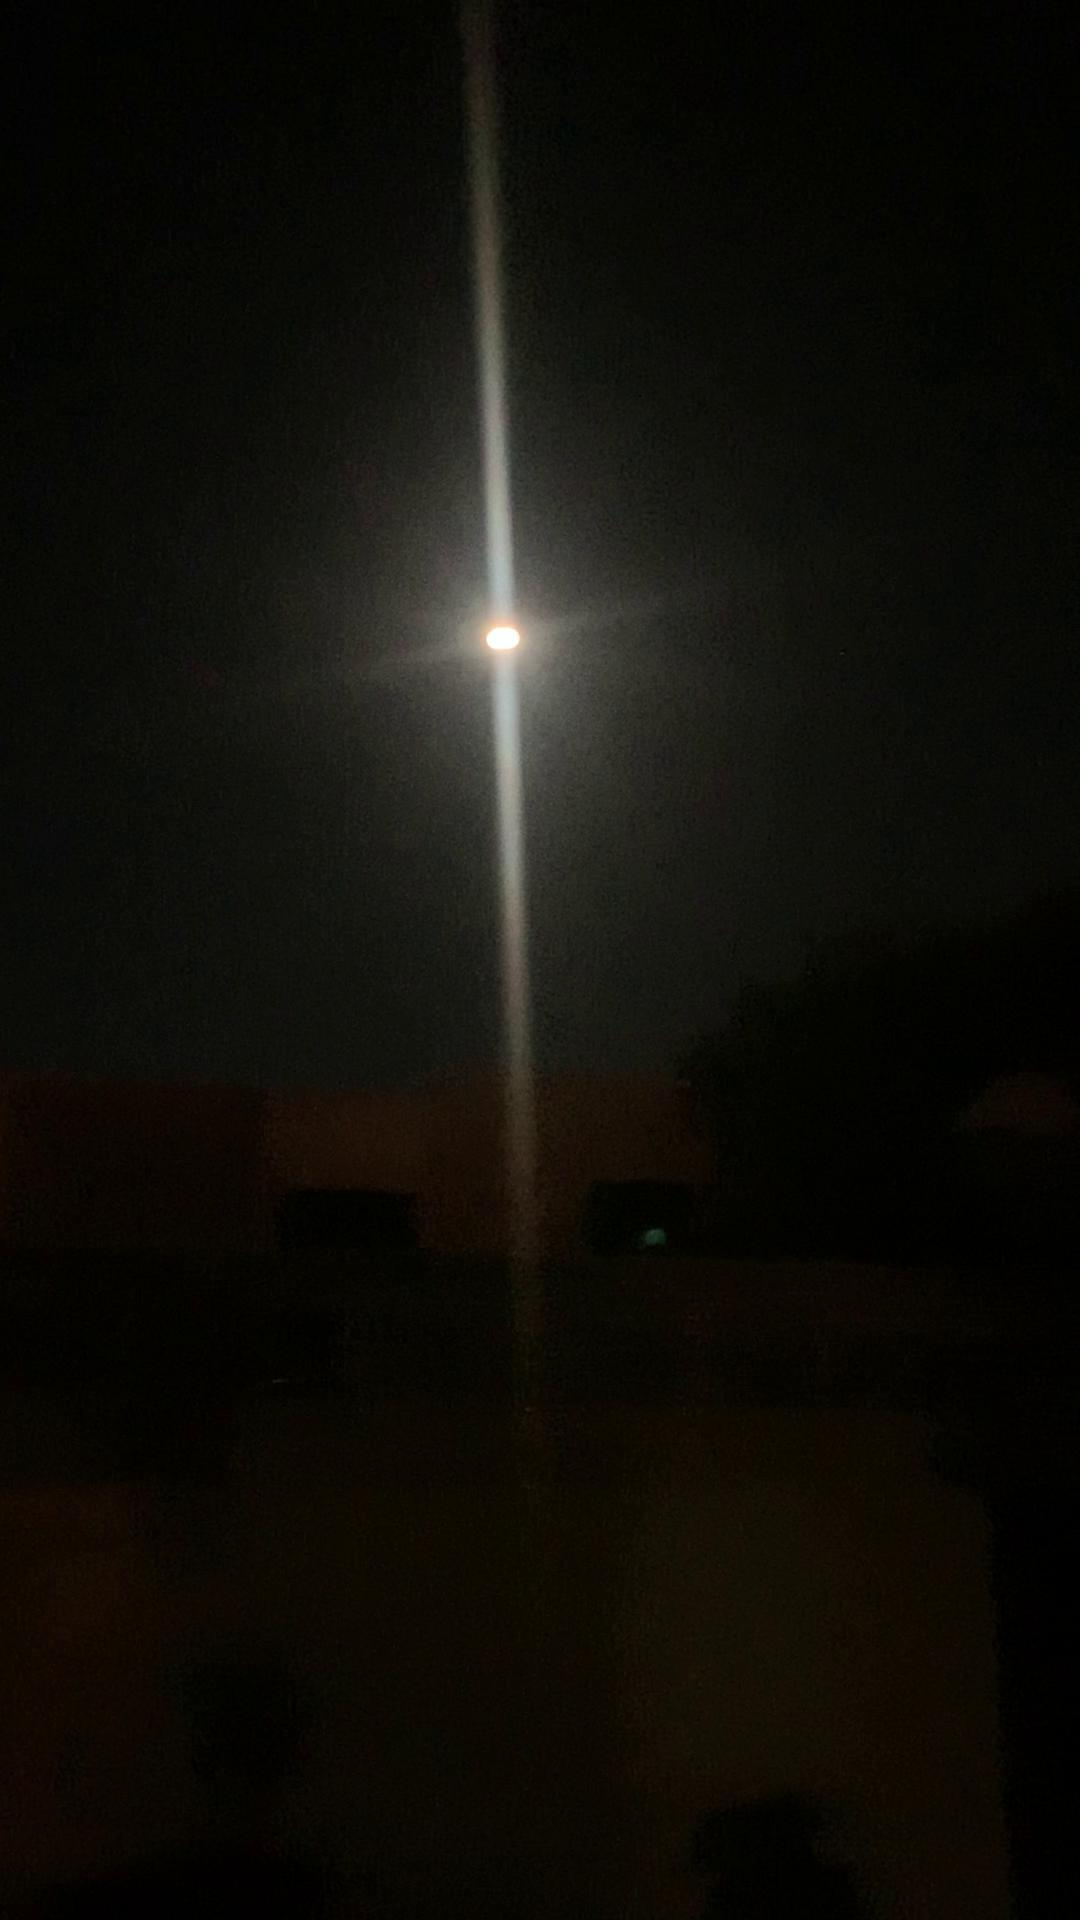moon: (469, 603, 545, 680)
